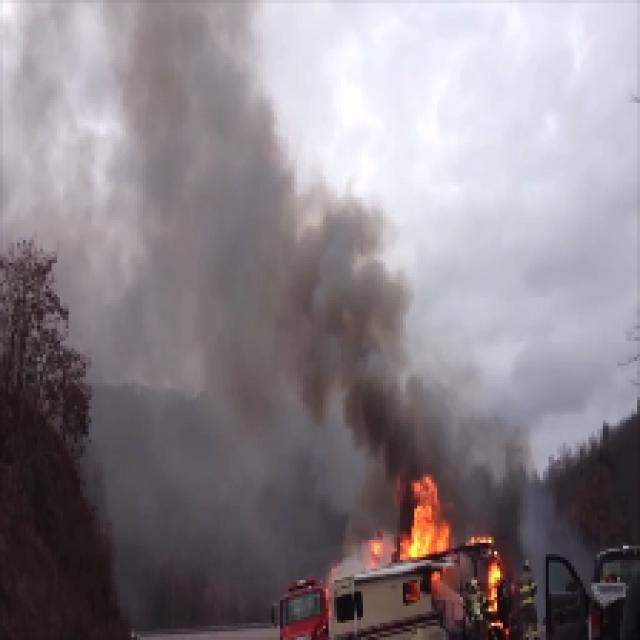fire: (406, 488, 457, 555)
smoke: (142, 134, 290, 379), (303, 246, 392, 426), (396, 400, 441, 461)
